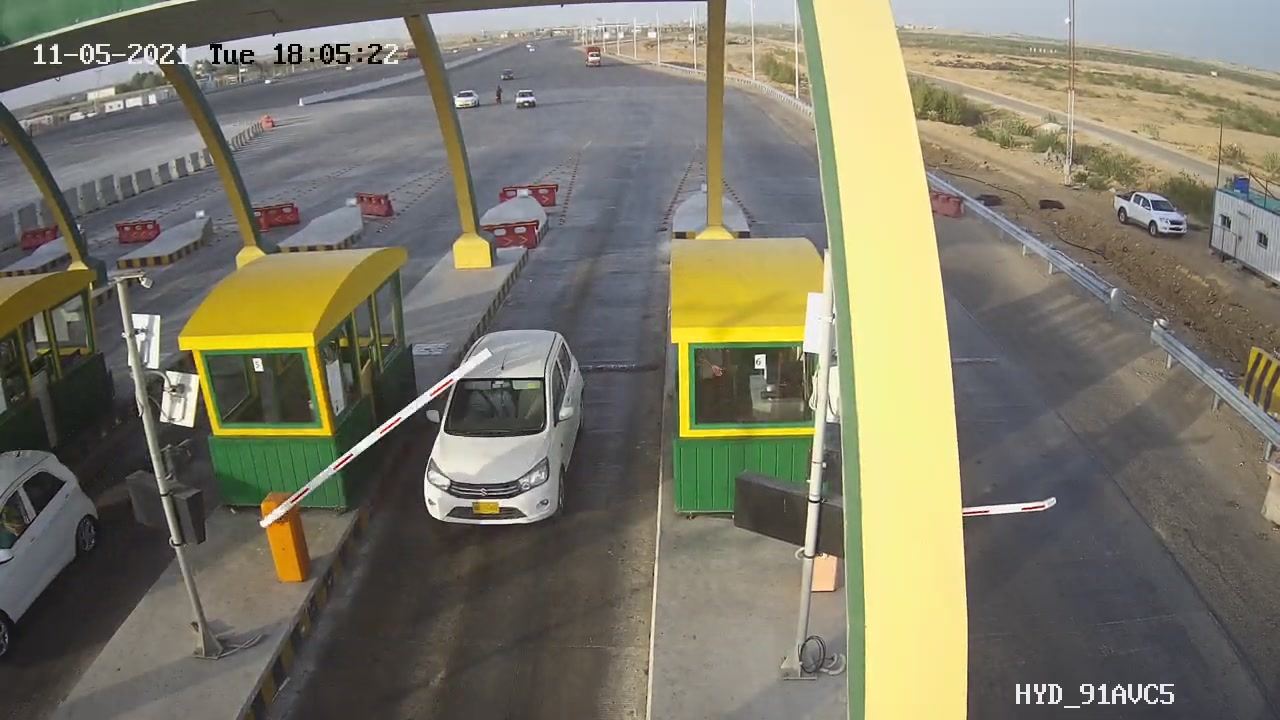F1: (417, 326, 596, 535)
